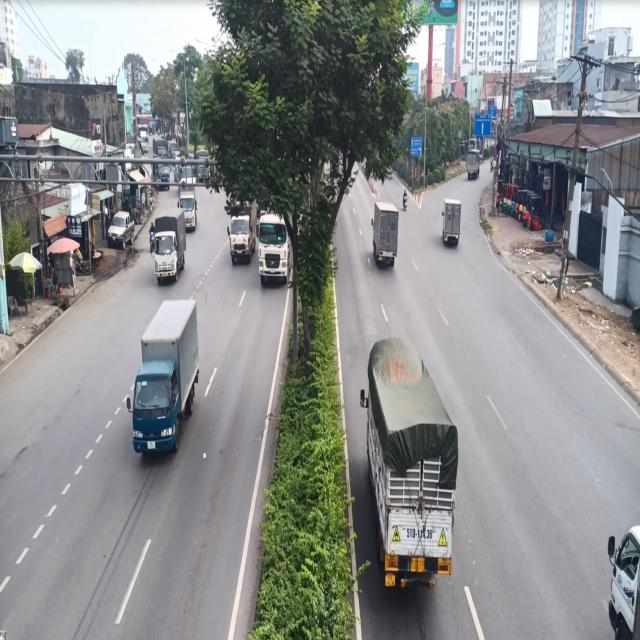truck: (357, 341, 457, 593), (128, 292, 205, 473), (255, 211, 292, 282), (154, 207, 184, 286), (440, 193, 461, 256), (177, 180, 199, 236)
